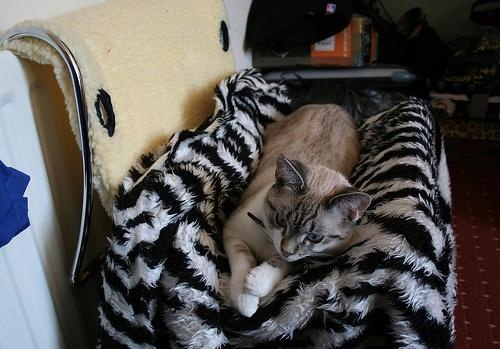cat: (223, 101, 369, 317)
chair: (1, 2, 459, 349)
